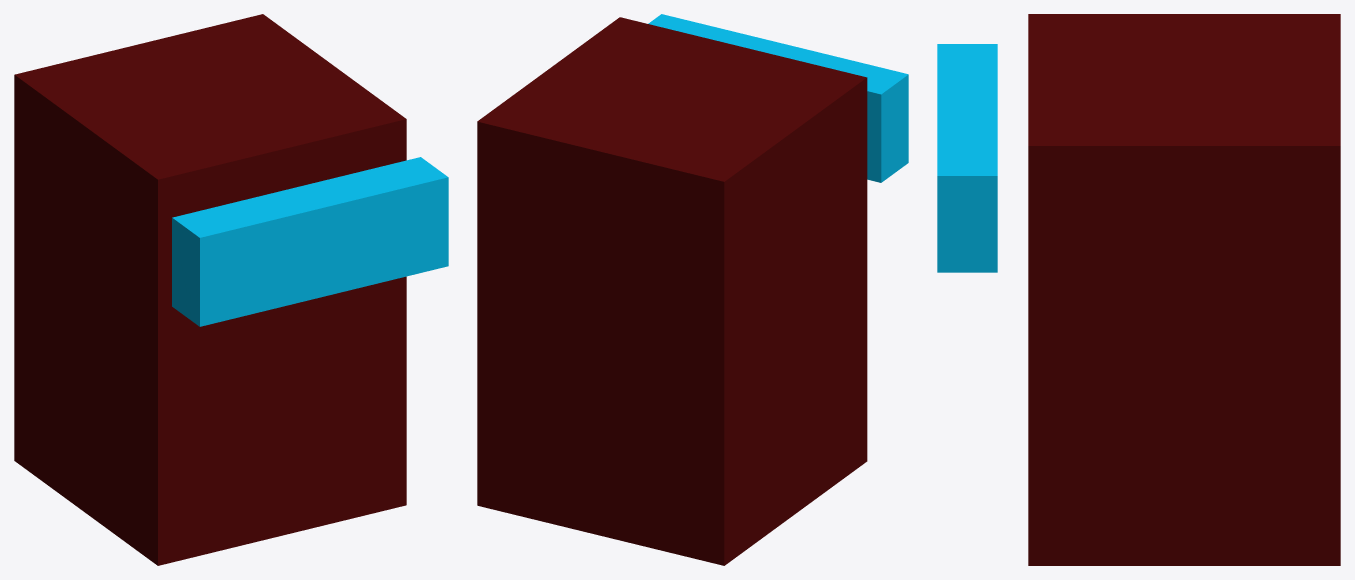
File: Enemy.obj
3 renders of one model, left to right at view 1: azimuth 30°, elevation 25°; view 2: azimuth 150°, elevation 25°; view 3: azimuth 270°, elevation 25°, orthographic. The views are drawn at different scales.
Parts seen in each view (by area): view 1: Cube; view 2: Cube; view 3: Cube.
Part boxes in pixels (bbox=[...]): Cube: bbox=[14, 14, 448, 565]; Cube: bbox=[477, 14, 908, 565]; Cube: bbox=[937, 14, 1340, 565].
Bounding box in the file's own units: 2 × 2.97 × 2.58.
